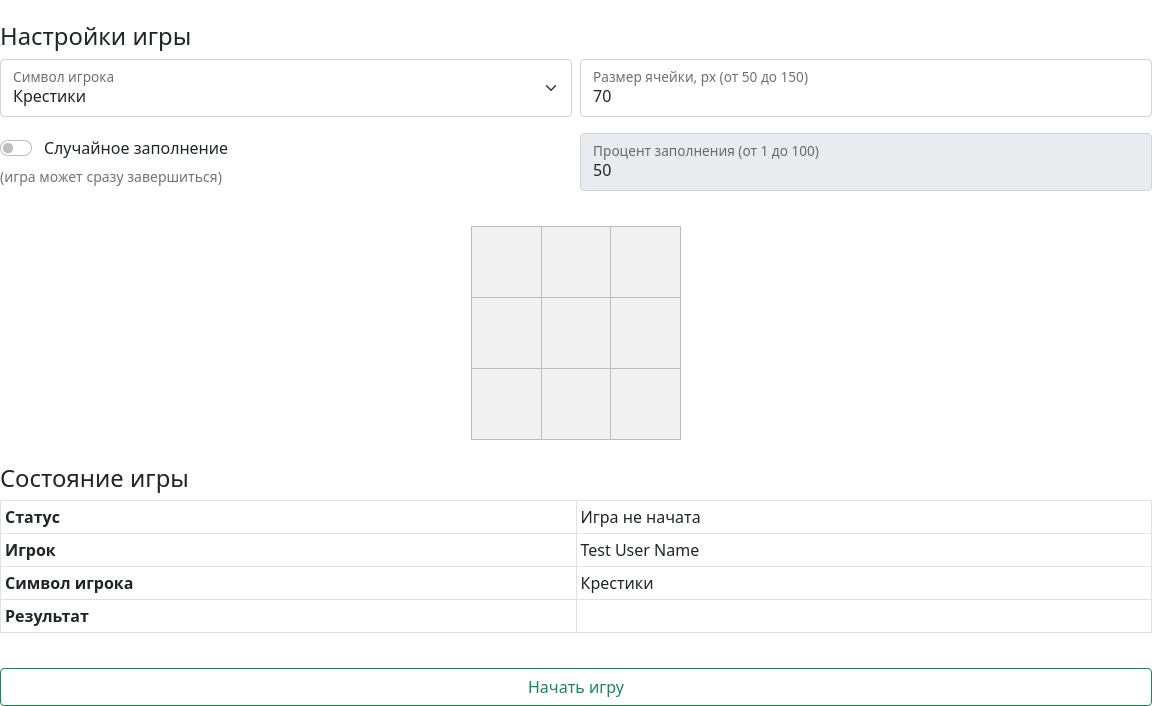
Test: TicTacToeGame › correct behaviour on stop button click
The width and height of the screenshot is (1152, 706).
(page scrolled)
Click the button.
click(576, 687)  # box [0,668,1151,705]
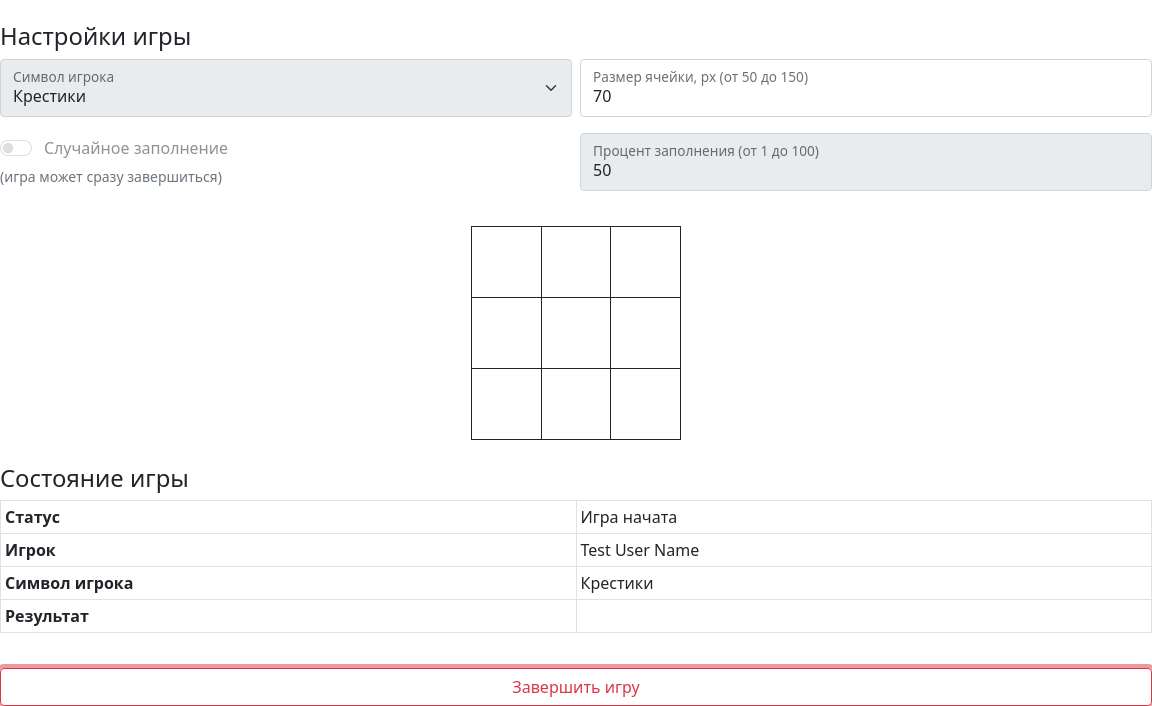
Click the button.
click(576, 687)  # box [0,668,1151,705]
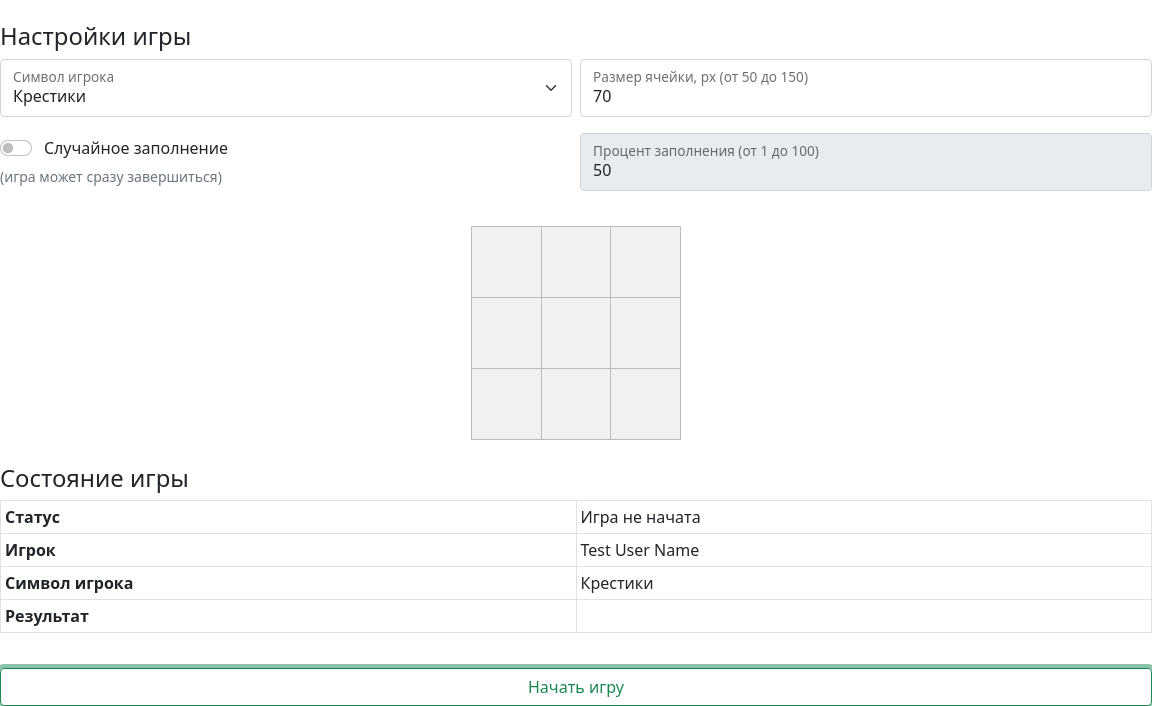
Expected: the dropdown is enabled, [0,59,572,117]
Expected: the button reads "Начать игру", [0,668,1151,705]
Expected: the cell "Игра не начата" is shown, [576,501,1151,534]
